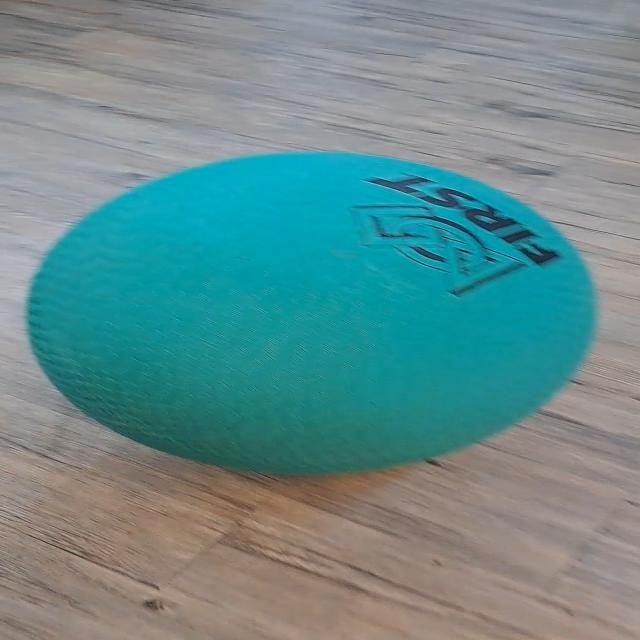ALGAE: (23, 149, 599, 477)
